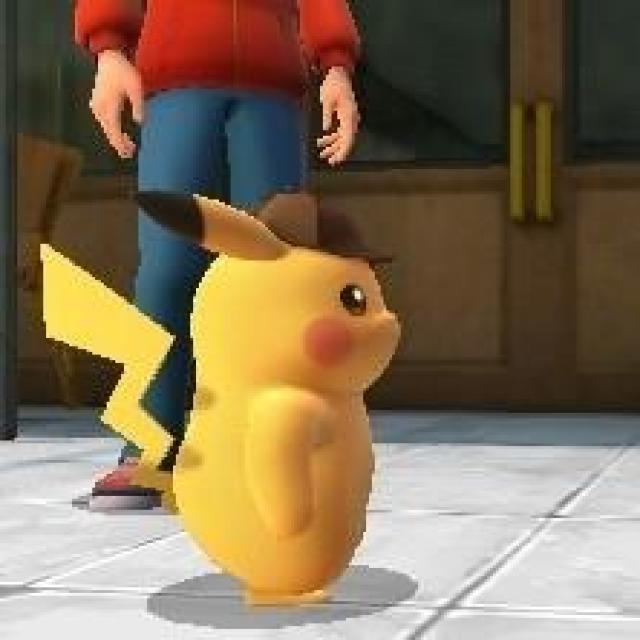pikachu: (42, 189, 402, 607)
